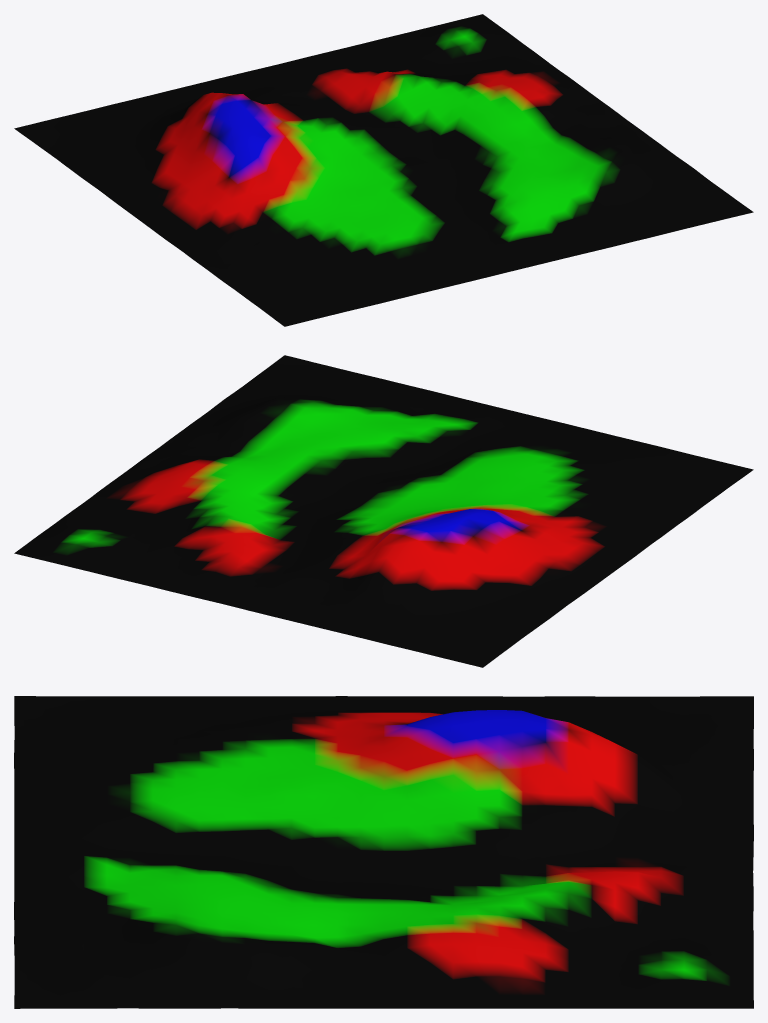
The model's file is terrainv2.glb.
3 renders of one model, top to bottom at view 1: azimuth 30°, elevation 25°; view 2: azimuth 150°, elevation 25°; view 3: azimuth 270°, elevation 25°, orthographic. The views are drawn at different scales.
Parts seen in each view (by area): view 1: Plane; view 2: Plane; view 3: Plane.
Boxes of the visible parts, x1,y1,x2,y2 form: Plane: (14,14,753,326); Plane: (14,355,753,667); Plane: (14,696,753,1008).
Bounding box in the file's own units: 512 × 50 × 512.
